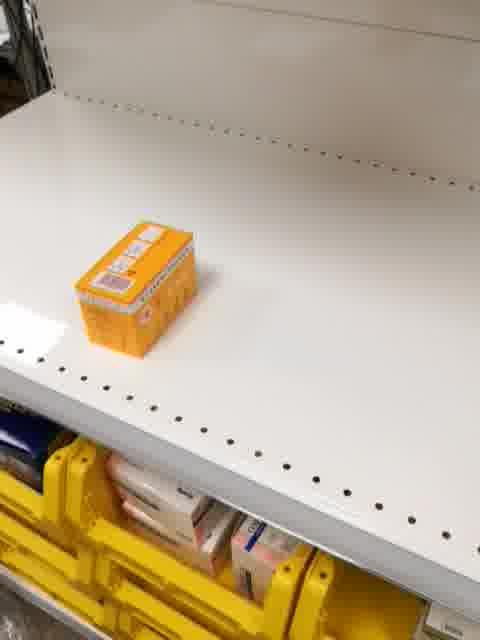jasminetea: (75, 217, 197, 358)
